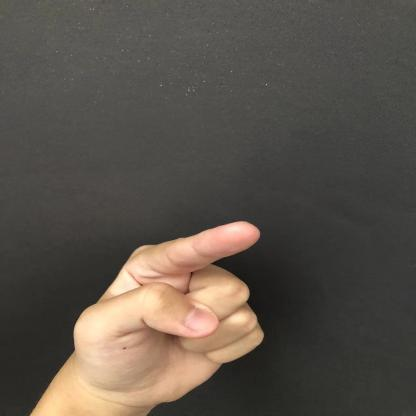finger_point: (82, 188, 269, 278)
